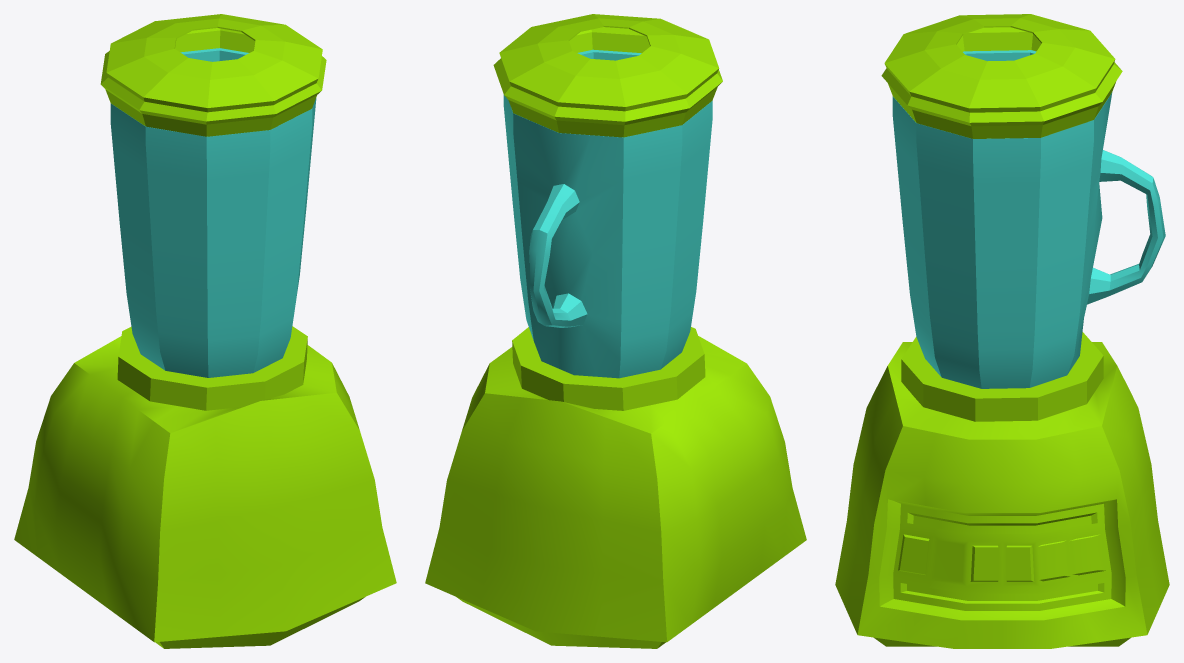
Rendered from blender.fbx.
3 views of the same model, side by side, from view 1: azimuth 30°, elevation 25°; view 2: azimuth 150°, elevation 25°; view 3: azimuth 270°, elevation 25° (orthographic). The views are drawn at different scales.
Visible parts, largest first — view 1: Cube.002, Cube.001; view 2: Cube.002, Cube.001; view 3: Cube.002, Cube.001.
Part boxes in pixels (x1,y1,x2,y2): Cube.002: (14,14,396,648); Cube.001: (110,48,316,377); Cube.002: (425,14,806,648); Cube.001: (503,49,712,378); Cube.002: (835,14,1169,648); Cube.001: (892,50,1165,388).
Size of the model in its own units: 2.46 by 4.71 by 2.49.
